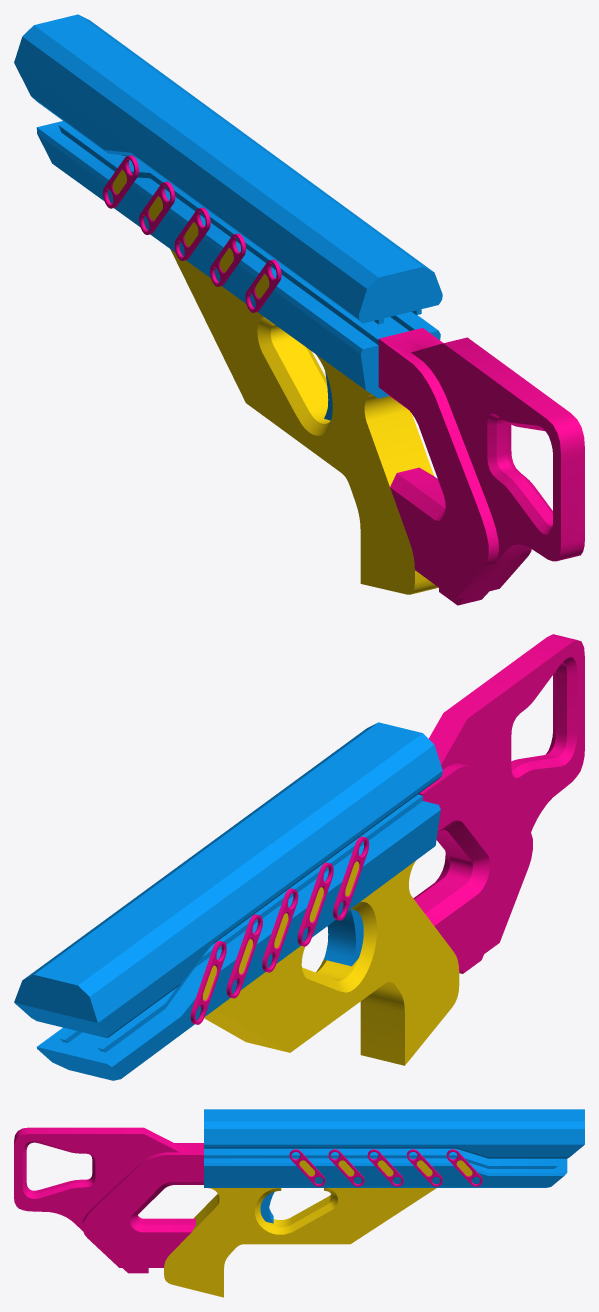
File: gun_blockout.FBX
3 renders of one model, top to bottom at view 1: azimuth 30°, elevation 25°; view 2: azimuth 150°, elevation 25°; view 3: azimuth 270°, elevation 25°, orthographic. The views are drawn at different scales.
Visible parts, largest first — view 1: gun_01; view 2: gun_01; view 3: gun_01.
Part boxes in pixels (x1,y1,x2,y2): gun_01: (14,14,584,605); gun_01: (14,634,584,1080); gun_01: (14,1109,584,1297).
Size of the model in its own units: 11.1 by 35.16 by 103.
